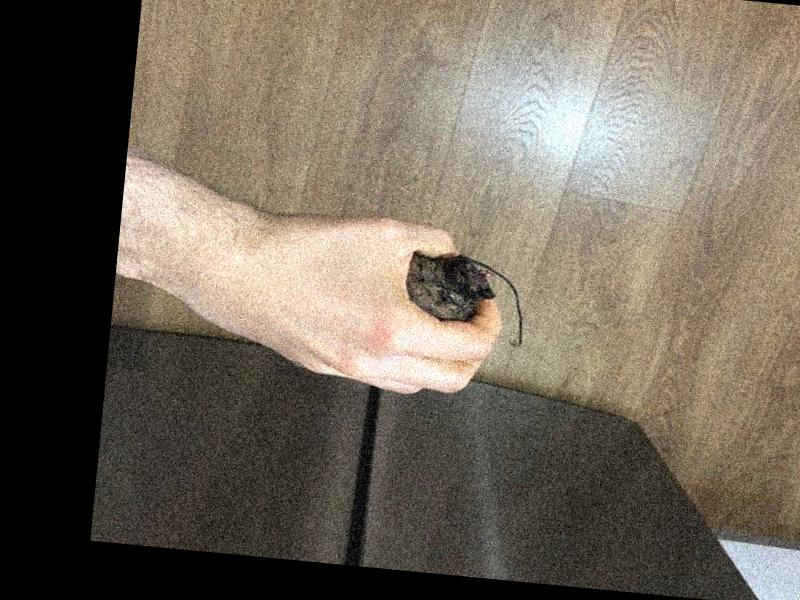Beet: (401, 250, 533, 349)
